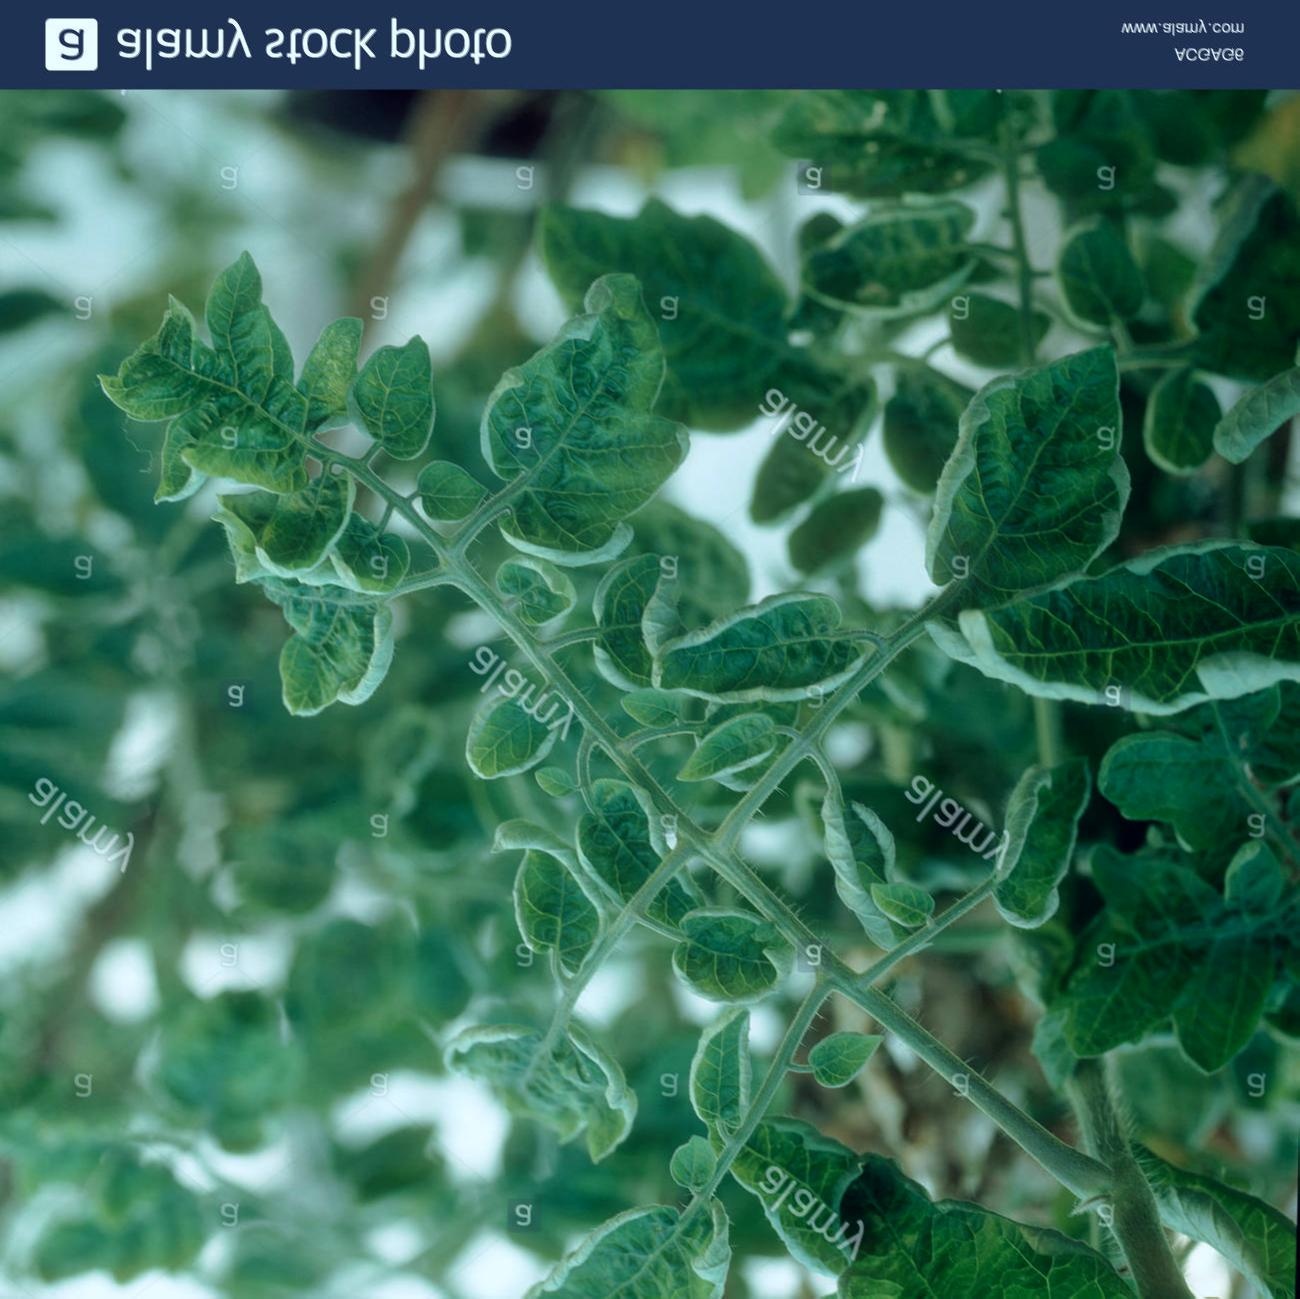Tomato leaf yellow virus: (923, 472, 1292, 780), (65, 255, 343, 542), (467, 249, 705, 571), (918, 350, 1124, 621), (224, 522, 459, 732), (456, 954, 627, 1192), (577, 758, 764, 973), (643, 567, 896, 709), (932, 743, 1095, 947), (364, 696, 629, 795)
